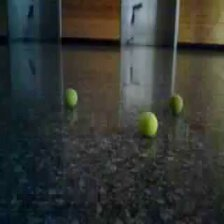tennis: (137, 112, 158, 138), (62, 88, 78, 110), (169, 93, 184, 116)
